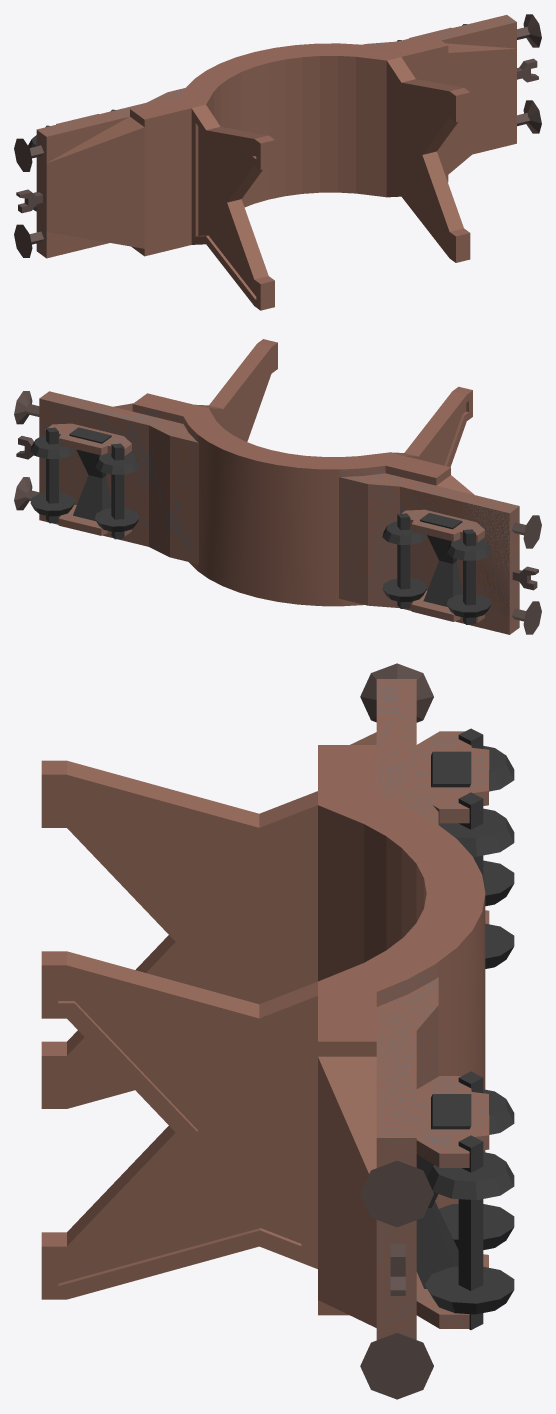
Rendered from steel_ladle_car.dae.
3 views of the same model, one above another, from view 1: azimuth 30°, elevation 25°; view 2: azimuth 150°, elevation 25°; view 3: azimuth 270°, elevation 25° (orthographic). The views are drawn at different scales.
Parts seen in each view (by area): view 1: coords_ME_ID3_MA_Color_B14, coords_ME_ID19_MA_Color_B14, coords_ME_ID31_MA_Color_B14, coords_ME_ID11_MA_Color_B14, coords_ME_ID31_MA___auto_2, coords_ME_ID143_MA___auto_1, coords_ME_ID119_MA___auto_1, coords_ME_ID179_MA___auto_1, coords_ME_ID167_MA___auto_1, coords_ME_ID137_MA___auto_1, coords_ME_ID111_MA___auto_1; view 2: coords_ME_ID3_MA_Color_B14, coords_ME_ID31_MA_Color_B14, coords_ME_ID11_MA_Color_B14, coords_ME_ID31_MA___auto_2, coords_ME_ID11_MA___auto_2, coords_ME_ID155_MA___auto_, coords_ME_ID75_MA___auto_, coords_ME_ID161_MA_Color_B14, coords_ME_ID203_MA_Color_B14, coords_ME_ID19_MA_Color_B14, coords_ME_ID63_MA___auto_, coords_ME_ID87_MA___auto_ (+19 smaller); view 3: coords_ME_ID3_MA_Color_B14, coords_ME_ID25_MA_Color_B14, coords_ME_ID11_MA_Color_B14, coords_ME_ID31_MA_Color_B14, coords_ME_ID11_MA___auto_2, coords_ME_ID75_MA___auto_, coords_ME_ID161_MA_Color_B14, coords_ME_ID203_MA_Color_B14, coords_ME_ID179_MA___auto_1, coords_ME_ID167_MA___auto_1, coords_ME_ID37_MA___auto_, coords_ME_ID51_MA___auto_ (+13 smaller).
Boxes of the visible parts, box(x1,y1,x2,y2) form: coords_ME_ID3_MA_Color_B14: box(46, 22, 516, 310); coords_ME_ID19_MA_Color_B14: box(195, 123, 256, 299); coords_ME_ID31_MA_Color_B14: box(36, 88, 185, 257); coords_ME_ID11_MA_Color_B14: box(363, 15, 516, 47); coords_ME_ID31_MA___auto_2: box(36, 89, 182, 257); coords_ME_ID143_MA___auto_1: box(14, 224, 32, 257); coords_ME_ID119_MA___auto_1: box(14, 138, 32, 171); coords_ME_ID179_MA___auto_1: box(523, 100, 541, 133); coords_ME_ID167_MA___auto_1: box(523, 14, 541, 47); coords_ME_ID137_MA___auto_1: box(16, 189, 42, 213); coords_ME_ID111_MA___auto_1: box(517, 58, 538, 82); coords_ME_ID3_MA_Color_B14: box(113, 339, 474, 606); coords_ME_ID31_MA_Color_B14: box(339, 465, 519, 634); coords_ME_ID11_MA_Color_B14: box(39, 391, 198, 564); coords_ME_ID31_MA___auto_2: box(339, 466, 519, 633); coords_ME_ID11_MA___auto_2: box(39, 392, 198, 563); coords_ME_ID155_MA___auto_: box(420, 513, 462, 606); coords_ME_ID75_MA___auto_: box(69, 427, 111, 521); coords_ME_ID161_MA_Color_B14: box(45, 423, 131, 455); coords_ME_ID203_MA_Color_B14: box(402, 509, 484, 542); coords_ME_ID19_MA_Color_B14: box(422, 401, 468, 466); coords_ME_ID63_MA___auto_: box(111, 443, 124, 539); coords_ME_ID87_MA___auto_: box(397, 513, 410, 608); coords_ME_ID3_MA_Color_B14: box(41, 732, 485, 1327); coords_ME_ID25_MA_Color_B14: box(58, 979, 301, 1285); coords_ME_ID11_MA_Color_B14: box(376, 962, 438, 1340); coords_ME_ID31_MA_Color_B14: box(376, 679, 438, 824); coords_ME_ID11_MA___auto_2: box(376, 963, 438, 1339); coords_ME_ID75_MA___auto_: box(416, 1094, 471, 1288); coords_ME_ID161_MA_Color_B14: box(416, 1076, 489, 1167); coords_ME_ID203_MA_Color_B14: box(416, 731, 489, 823); coords_ME_ID179_MA___auto_1: box(360, 1333, 433, 1399); coords_ME_ID167_MA___auto_1: box(360, 1160, 433, 1227); coords_ME_ID37_MA___auto_: box(458, 1135, 483, 1329); coords_ME_ID51_MA___auto_: box(425, 1266, 514, 1314).
Size of the model in its own units: 143 by 44.06 by 56.45.
